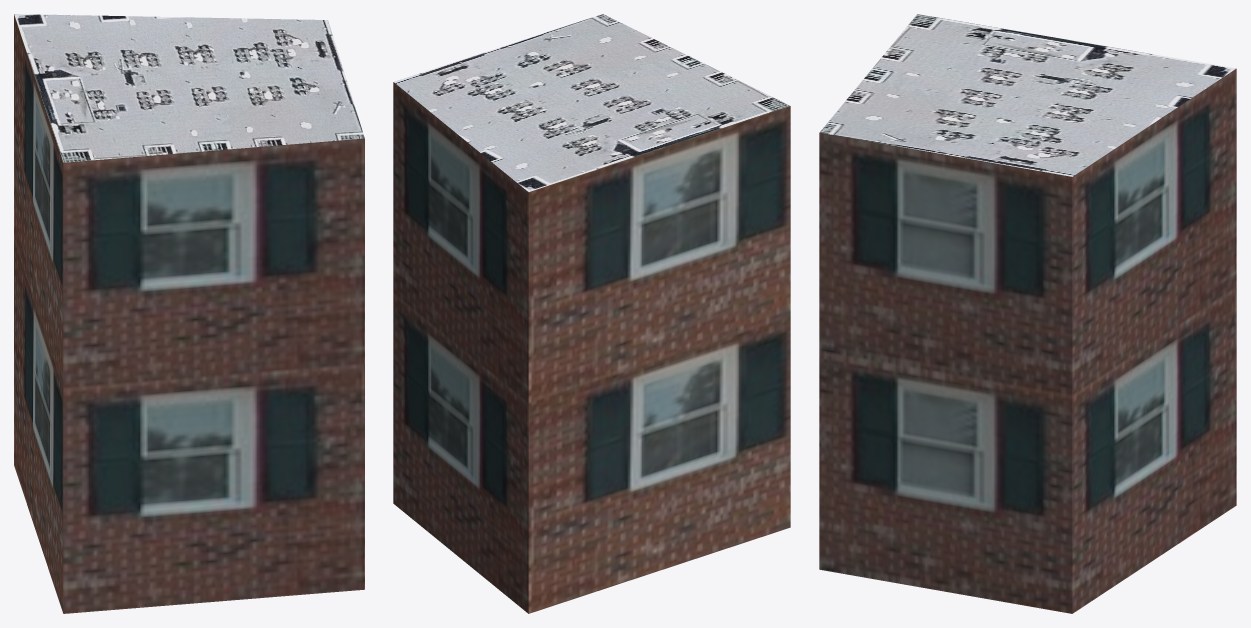
File: ResTex__4082.fbx
The picture shows the model from 3 angles, left to right: view 1: azimuth 30°, elevation 25°; view 2: azimuth 150°, elevation 25°; view 3: azimuth 270°, elevation 25°; orthographic projection. The views are drawn at different scales.
Visible parts, largest first — view 1: CityEngineMaterial_14_m, CityEngineMaterial_8_m; view 2: CityEngineMaterial_14_m, CityEngineMaterial_8_m; view 3: CityEngineMaterial_14_m, CityEngineMaterial_8_m.
Part boxes in pixels (box(x1,y1,x2,y2)): CityEngineMaterial_14_m: box(14, 14, 364, 613); CityEngineMaterial_8_m: box(14, 14, 364, 162); CityEngineMaterial_14_m: box(393, 82, 790, 613); CityEngineMaterial_8_m: box(394, 14, 789, 191); CityEngineMaterial_14_m: box(819, 68, 1236, 613); CityEngineMaterial_8_m: box(820, 14, 1235, 176).
Size of the model in its own units: 4.8 by 6 by 5.19.
2 materials, 2 textured.
